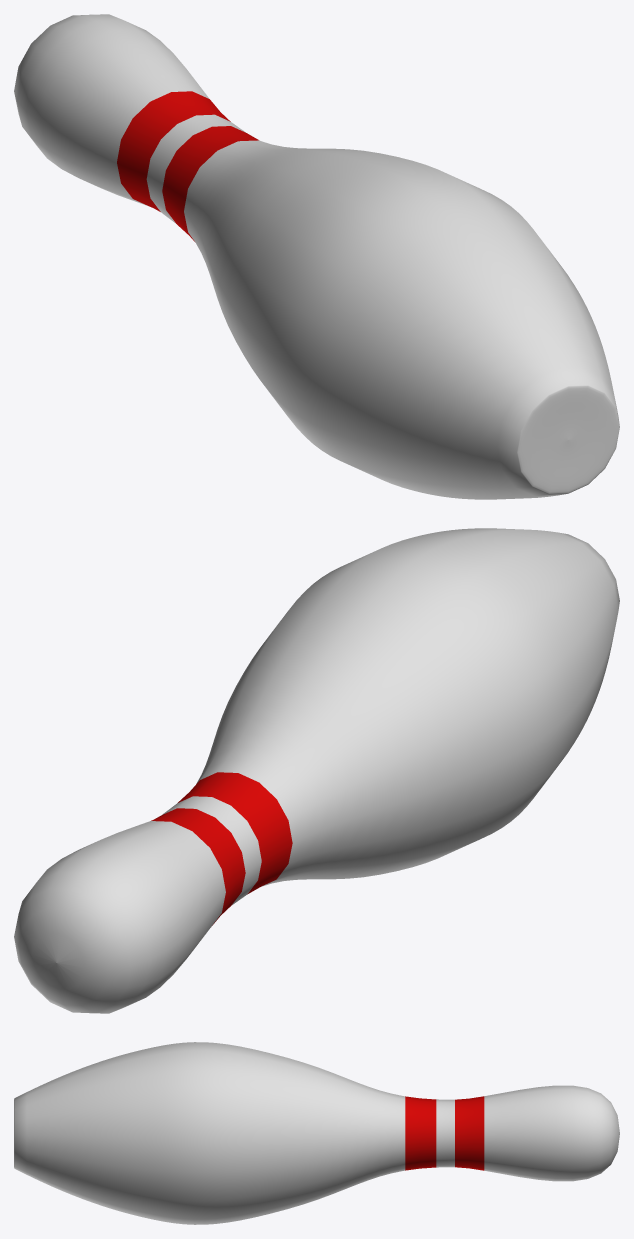
The model's file is pin.fbx.
3 renders of one model, top to bottom at view 1: azimuth 30°, elevation 25°; view 2: azimuth 150°, elevation 25°; view 3: azimuth 270°, elevation 25°, orthographic. The views are drawn at different scales.
Parts seen in each view (by area): view 1: BezierCurve; view 2: BezierCurve; view 3: BezierCurve.
Boxes of the visible parts, x1,y1,x2,y2 form: BezierCurve: (14,14,619,499); BezierCurve: (14,528,619,1013); BezierCurve: (14,1042,619,1224).
Size of the model in its own units: 21359 by 21359 by 70778.
